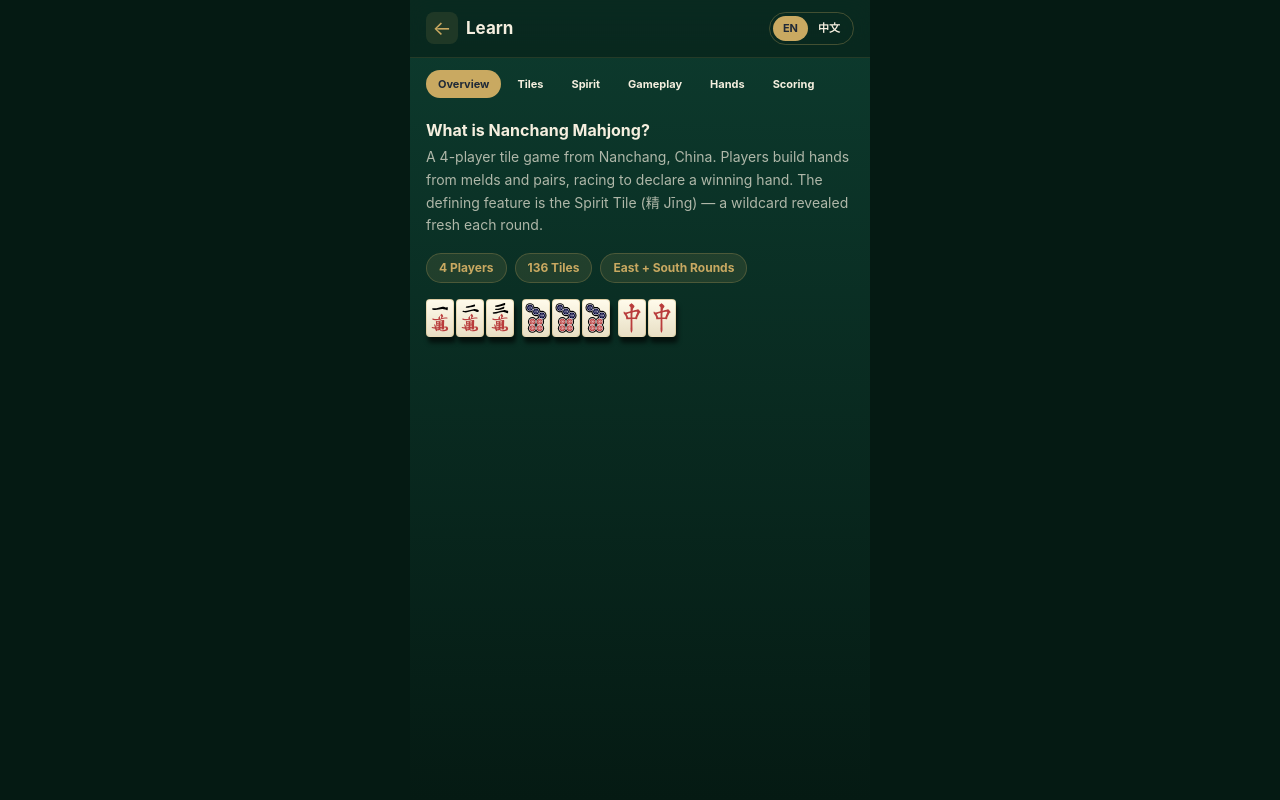
Test: LearnPage › Learn·examples-render — switching to Scoring tab renders scoring rules
The image size is (1280, 800).
What coordinates should you click on to do the following:
click the tab "Scoring"
I would click on:
 (793, 84)
Its box is [761,70,826,98].
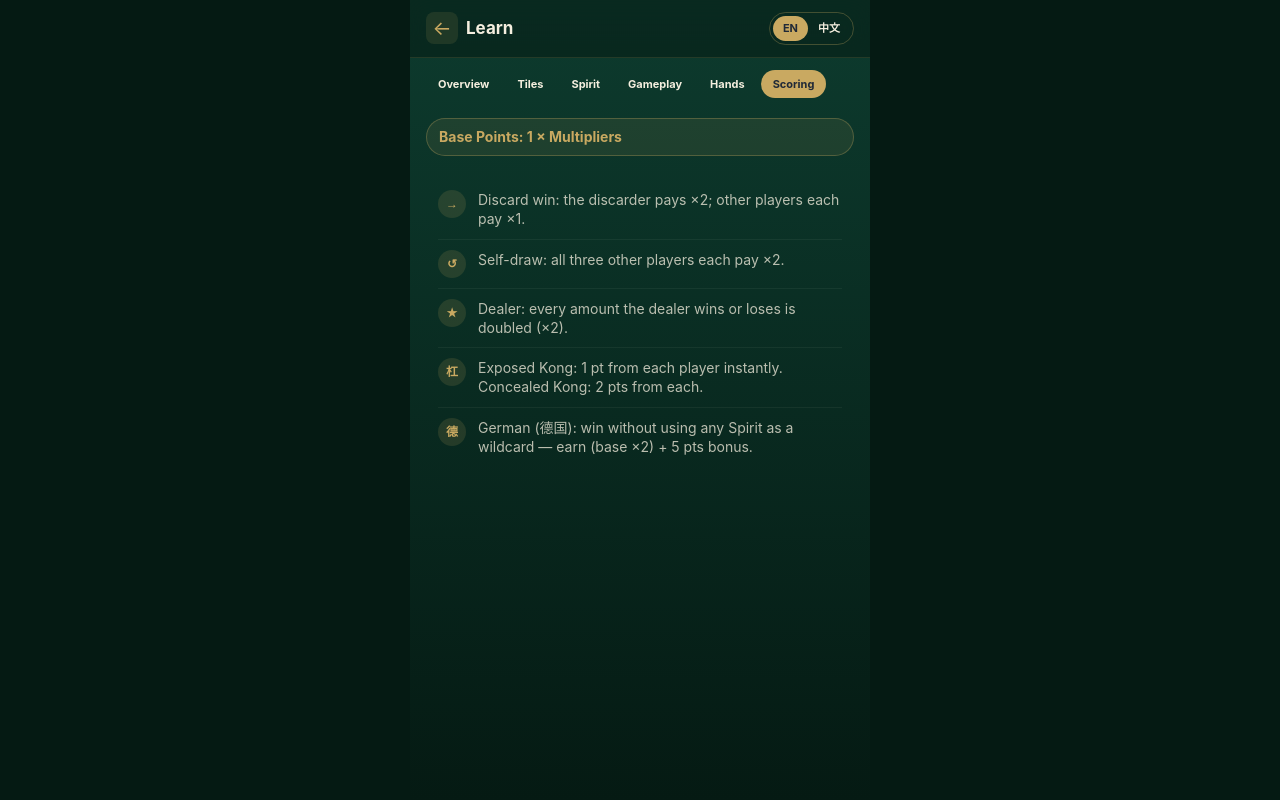
Check: the text "Base Points: 1 × Multipliers" is shown, box [426,118,854,156]
Check: the text "Self-draw: all three other players each pay ×2." is shown, box [478,250,785,269]
